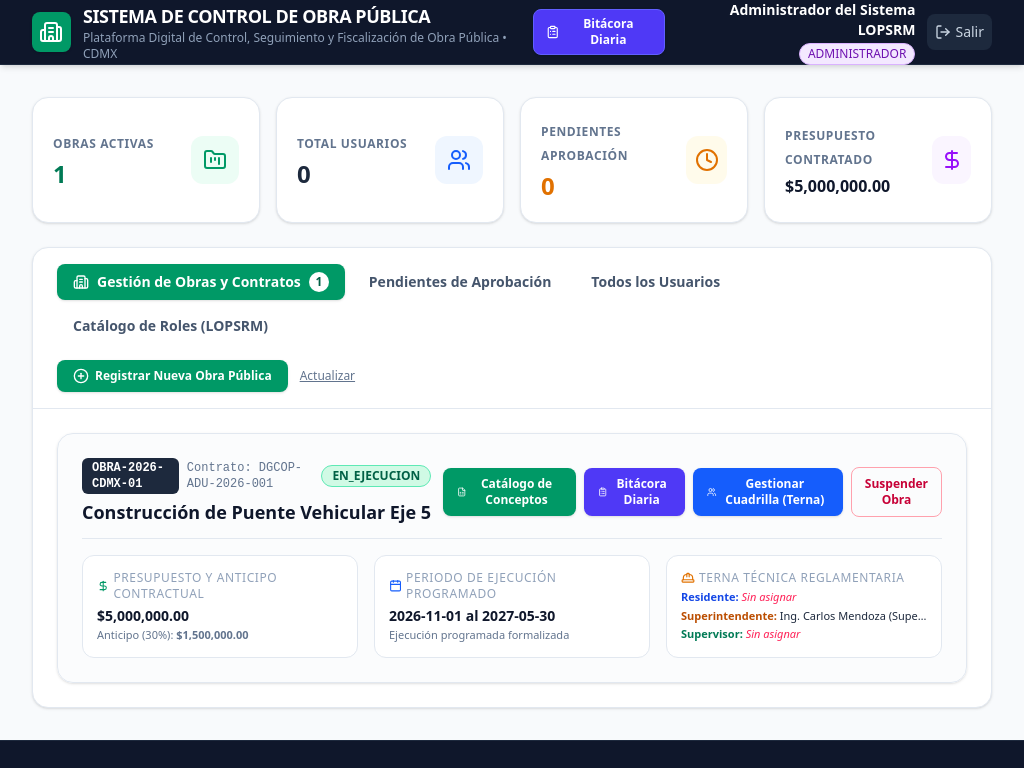
Scenario: Sprint 3: Pruebas de Interfaz de Usuario (HU-014 a HU-019) › HU-014 Vista Inicial: debe mostrar botón de Catálogo Original y abrir el modal para la obra
Note: Abrir modal
Click the button "Catálogo de Conceptos" at (510, 492), box [443,468,576,516]
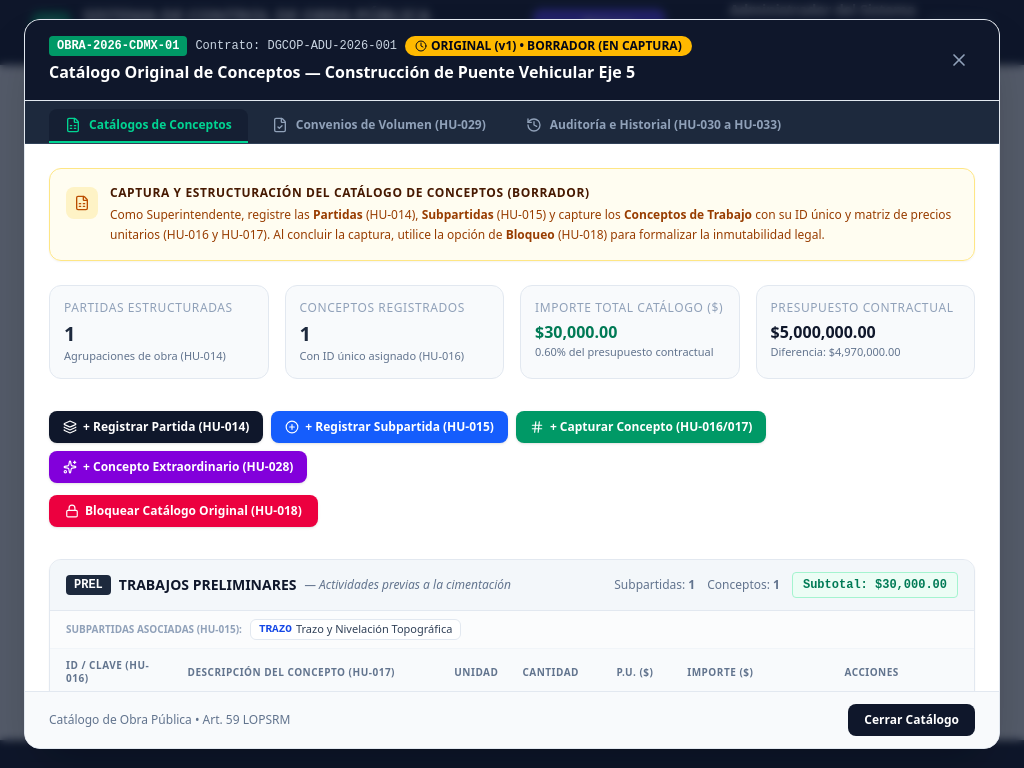
Expected: the heading "Catálogo Original de Conceptos — Construcción de Puente Vehicular Eje 5" is shown, [49,60,692,84]
